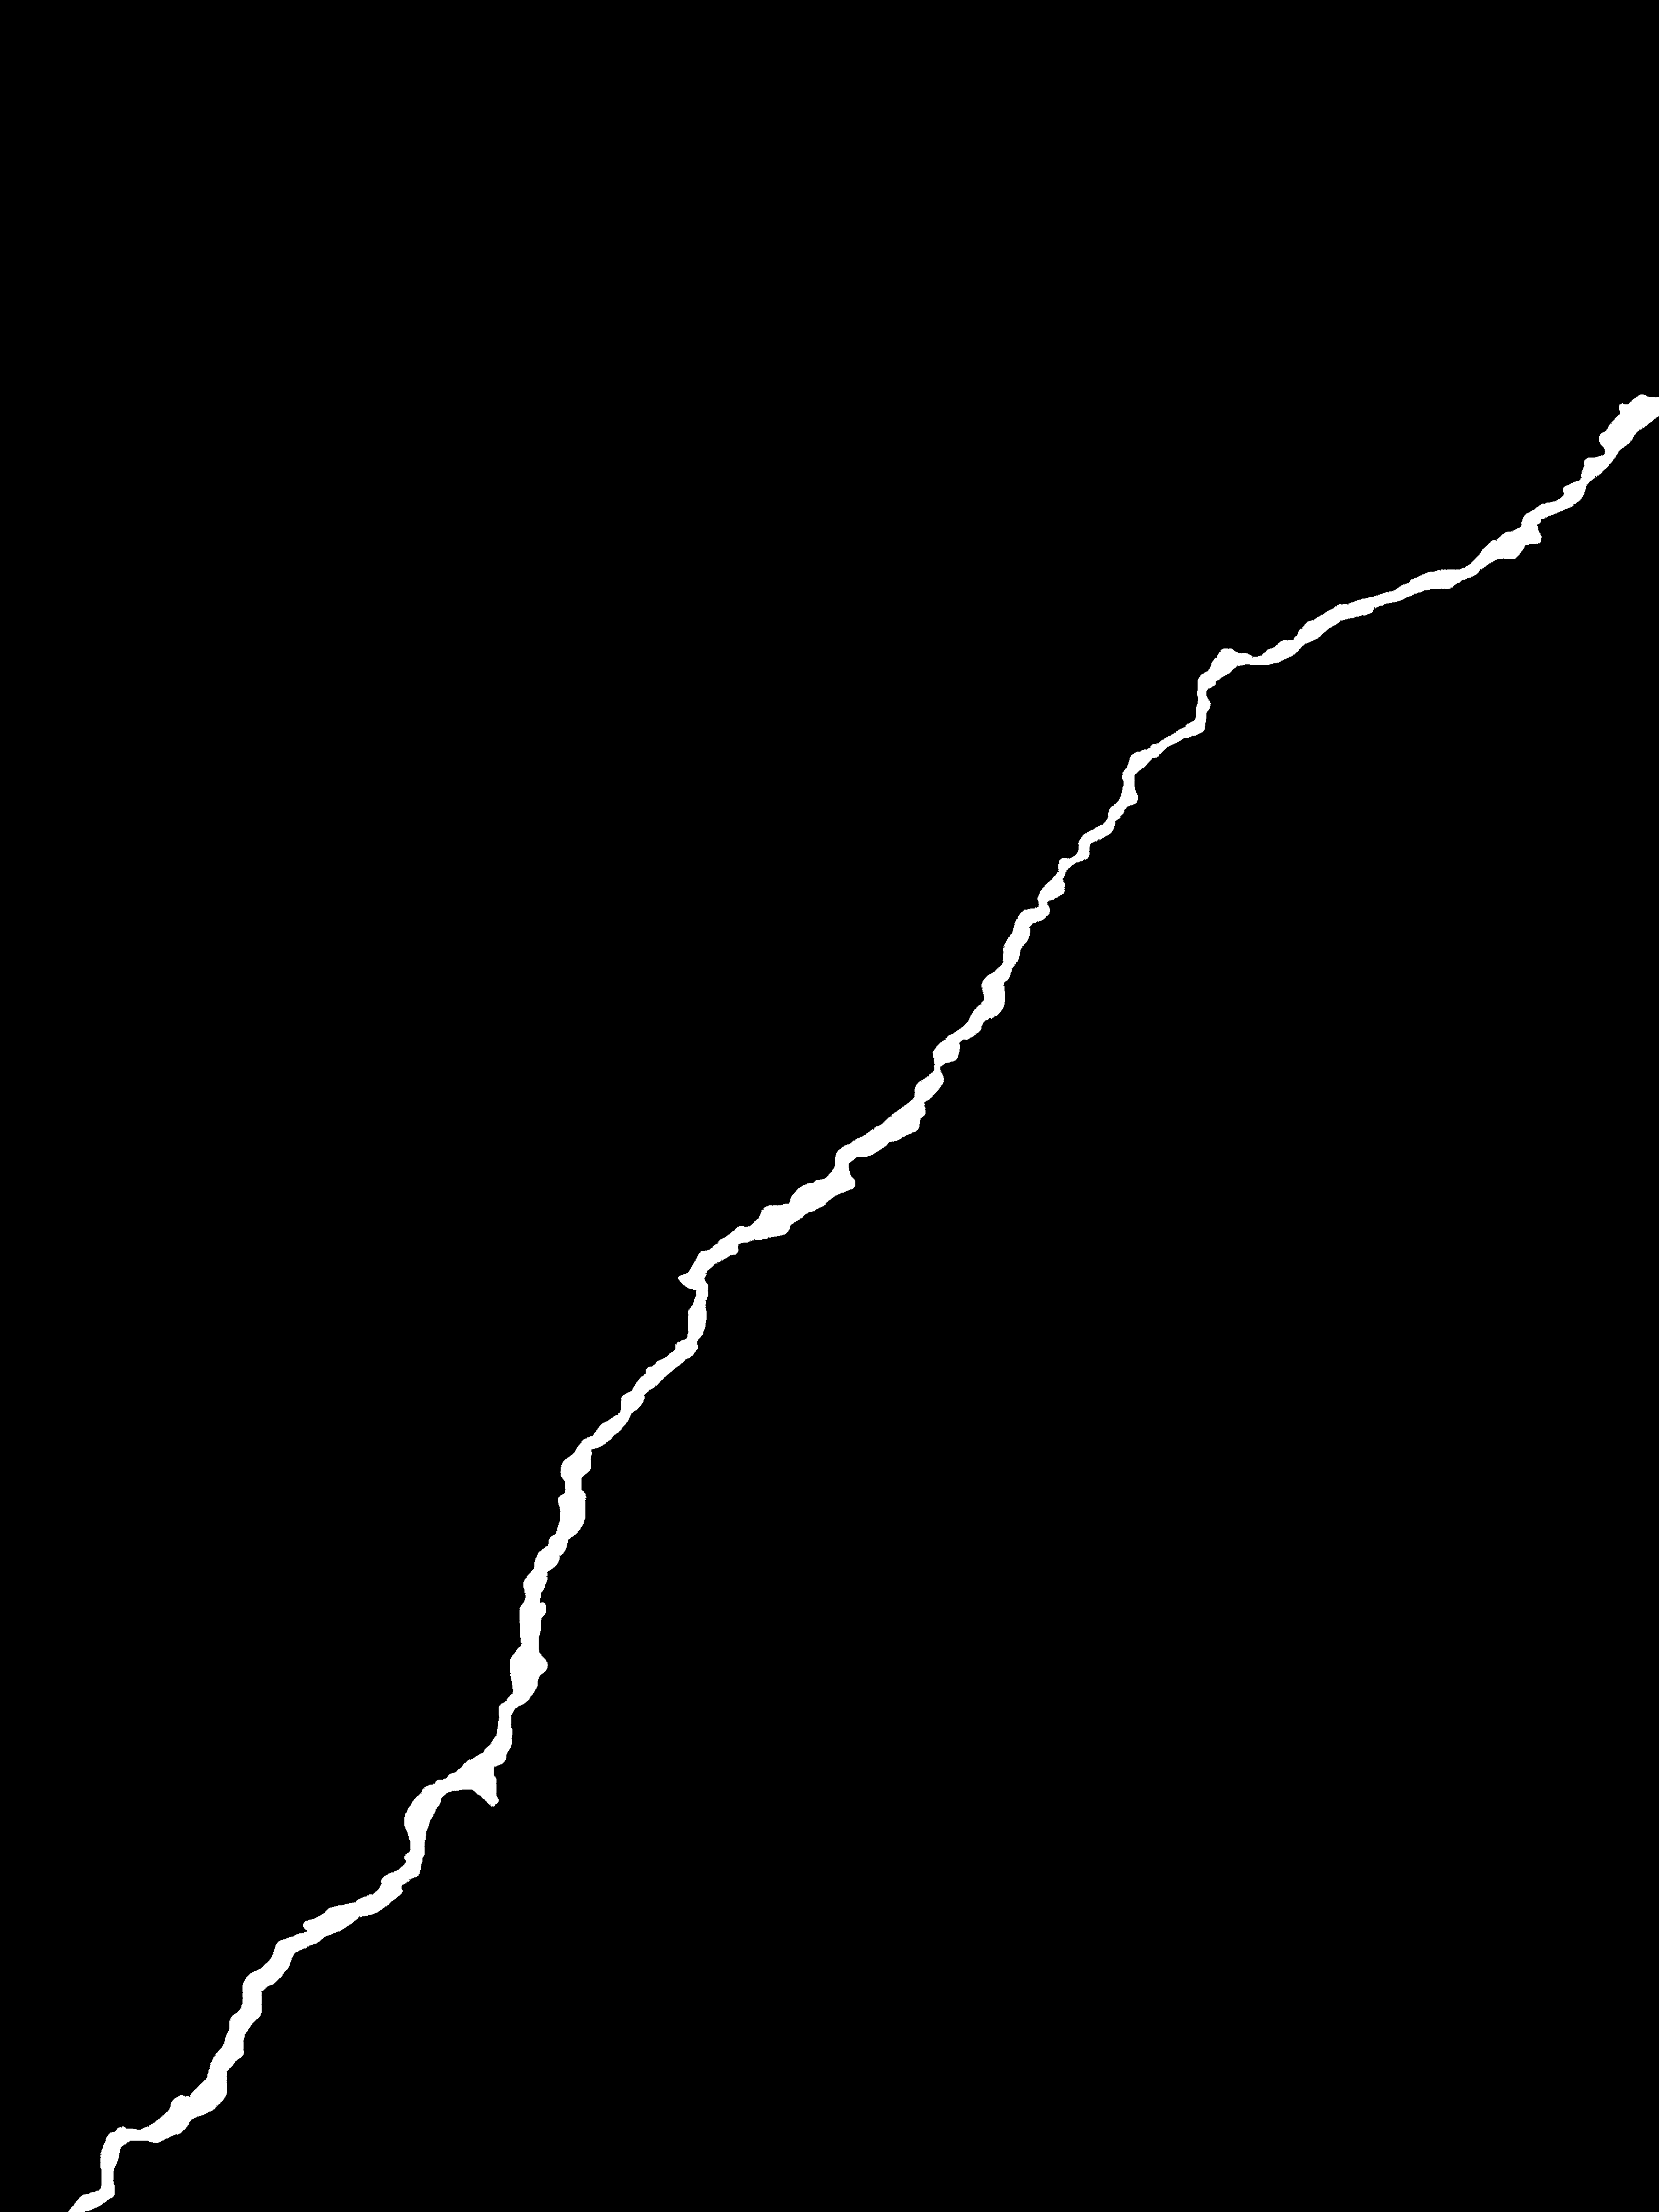Crack: (54, 352, 1659, 2212)
